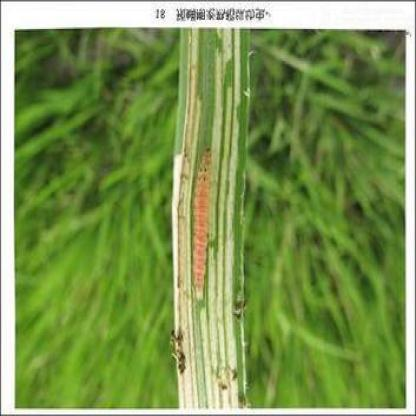leaf-folder: (184, 133, 216, 320)
